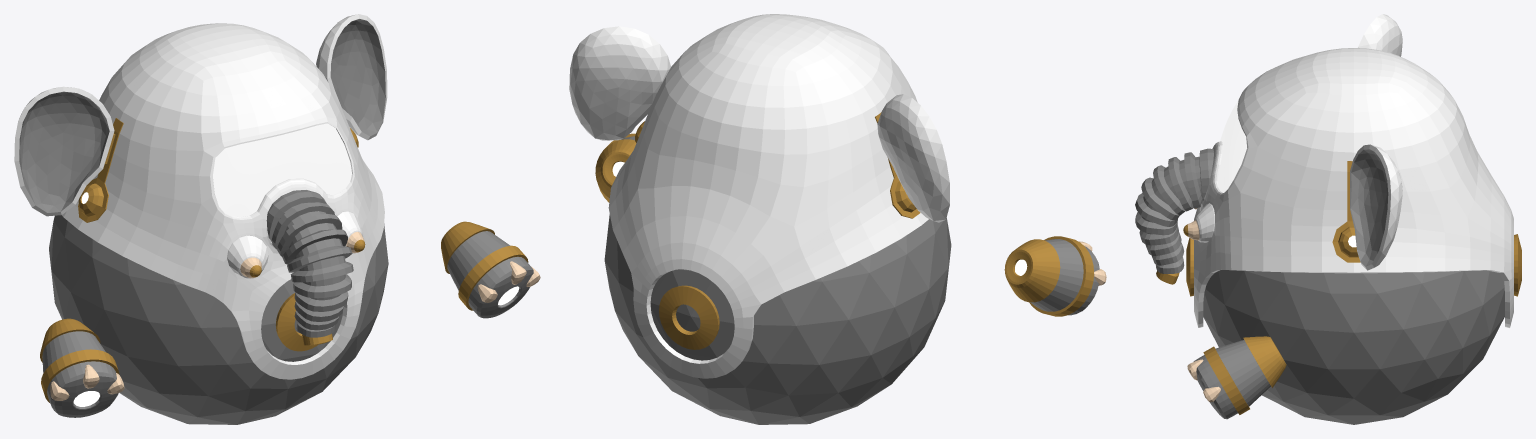
File: eli3.glb
The picture shows the model from 3 angles, left to right: view 1: azimuth 30°, elevation 25°; view 2: azimuth 150°, elevation 25°; view 3: azimuth 270°, elevation 25°; orthographic projection. The views are drawn at different scales.
Visible parts, largest first — view 1: Body, Ball, EarL, Screen, EarR, HoofR, HoofL, Tusk, EarDisc, Trunk.004, Trunk.005, Trunk.006 (+8 smaller); view 2: Body, Ball, EarR, EarL, HoofL, HoofR, EarDisc; view 3: Body, Ball, EarR, HoofR, Screen, EarL, EarDisc, Tusk, Trunk.003, Trunk.004, Trunk.002, Trunk.005 (+6 smaller).
Boxes of the visible parts, <box> form: Body: <box>62,23,384,379</box>; Ball: <box>49,215,388,424</box>; EarL: <box>14,86,114,216</box>; Screen: <box>213,123,351,217</box>; EarR: <box>316,14,387,140</box>; HoofR: <box>441,221,533,318</box>; HoofL: <box>40,318,119,417</box>; Tusk: <box>227,211,365,278</box>; EarDisc: <box>78,118,358,222</box>; Trunk.004: <box>282,223,347,264</box>; Trunk.005: <box>287,238,352,272</box>; Trunk.006: <box>290,256,353,282</box>; Body: <box>608,14,928,378</box>; Ball: <box>604,214,951,424</box>; EarR: <box>569,26,670,140</box>; EarL: <box>877,94,949,222</box>; HoofL: <box>1004,236,1099,316</box>; HoofR: <box>595,133,636,202</box>; EarDisc: <box>635,112,920,218</box>; Body: <box>1186,48,1521,327</box>; Ball: <box>1203,270,1504,424</box>; EarR: <box>1350,144,1402,270</box>; HoofR: <box>1193,336,1286,419</box>; Screen: <box>1217,100,1246,192</box>; EarL: <box>1358,14,1402,56</box>; EarDisc: <box>1332,161,1360,262</box>; Tusk: <box>1183,203,1214,242</box>; Trunk.003: <box>1168,157,1193,211</box>; Trunk.004: <box>1153,165,1185,215</box>; Trunk.002: <box>1184,152,1202,208</box>; Trunk.005: <box>1141,177,1179,220</box>.
Size of the model in its own units: 3.05 by 2.22 by 2.24.
